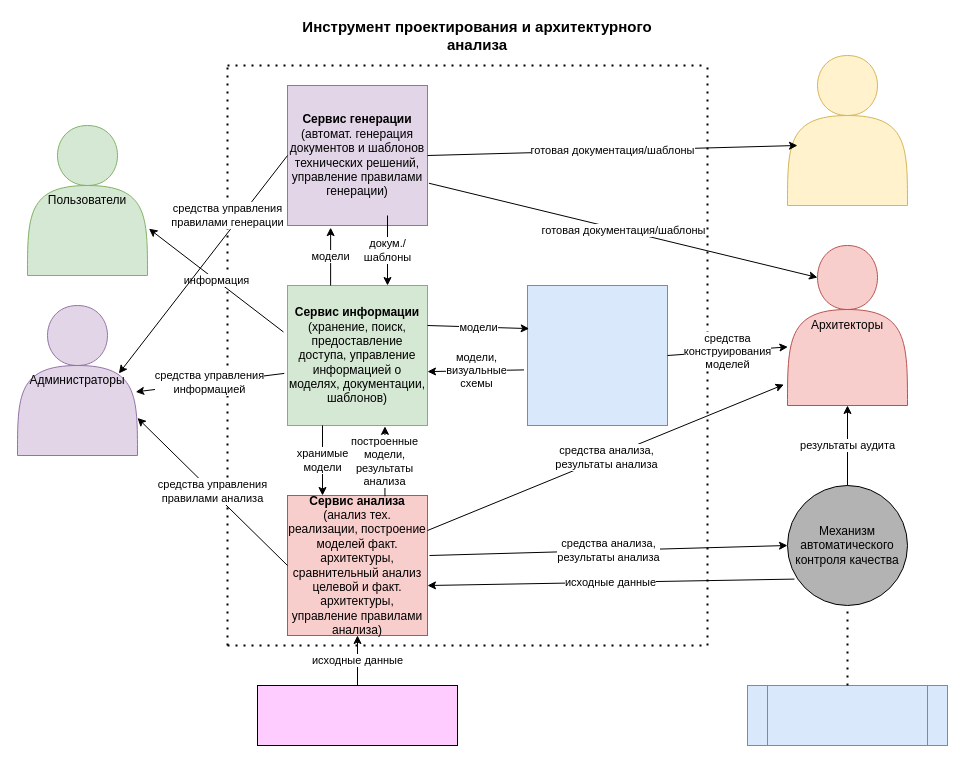
This 965x763 diagram has some shape labels left out. The centre of each missing label's shape, as x and y in pixels:
"Потребители документации/шаблонов" goes at (847,130).
"Сборочная линия программного продукта" goes at (847,715).
"Сервис моделирования (конструирование визуальных моделей)" goes at (597,355).
"Техническое решение" goes at (357,715).
